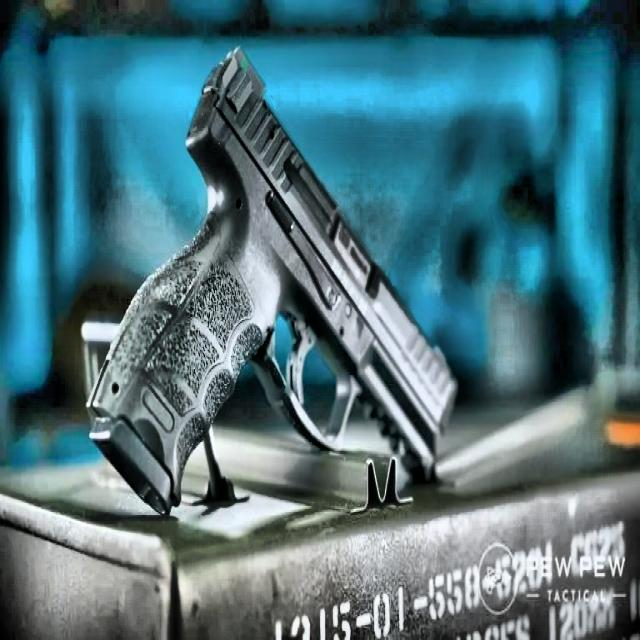HKVP9: (84, 41, 459, 516)
